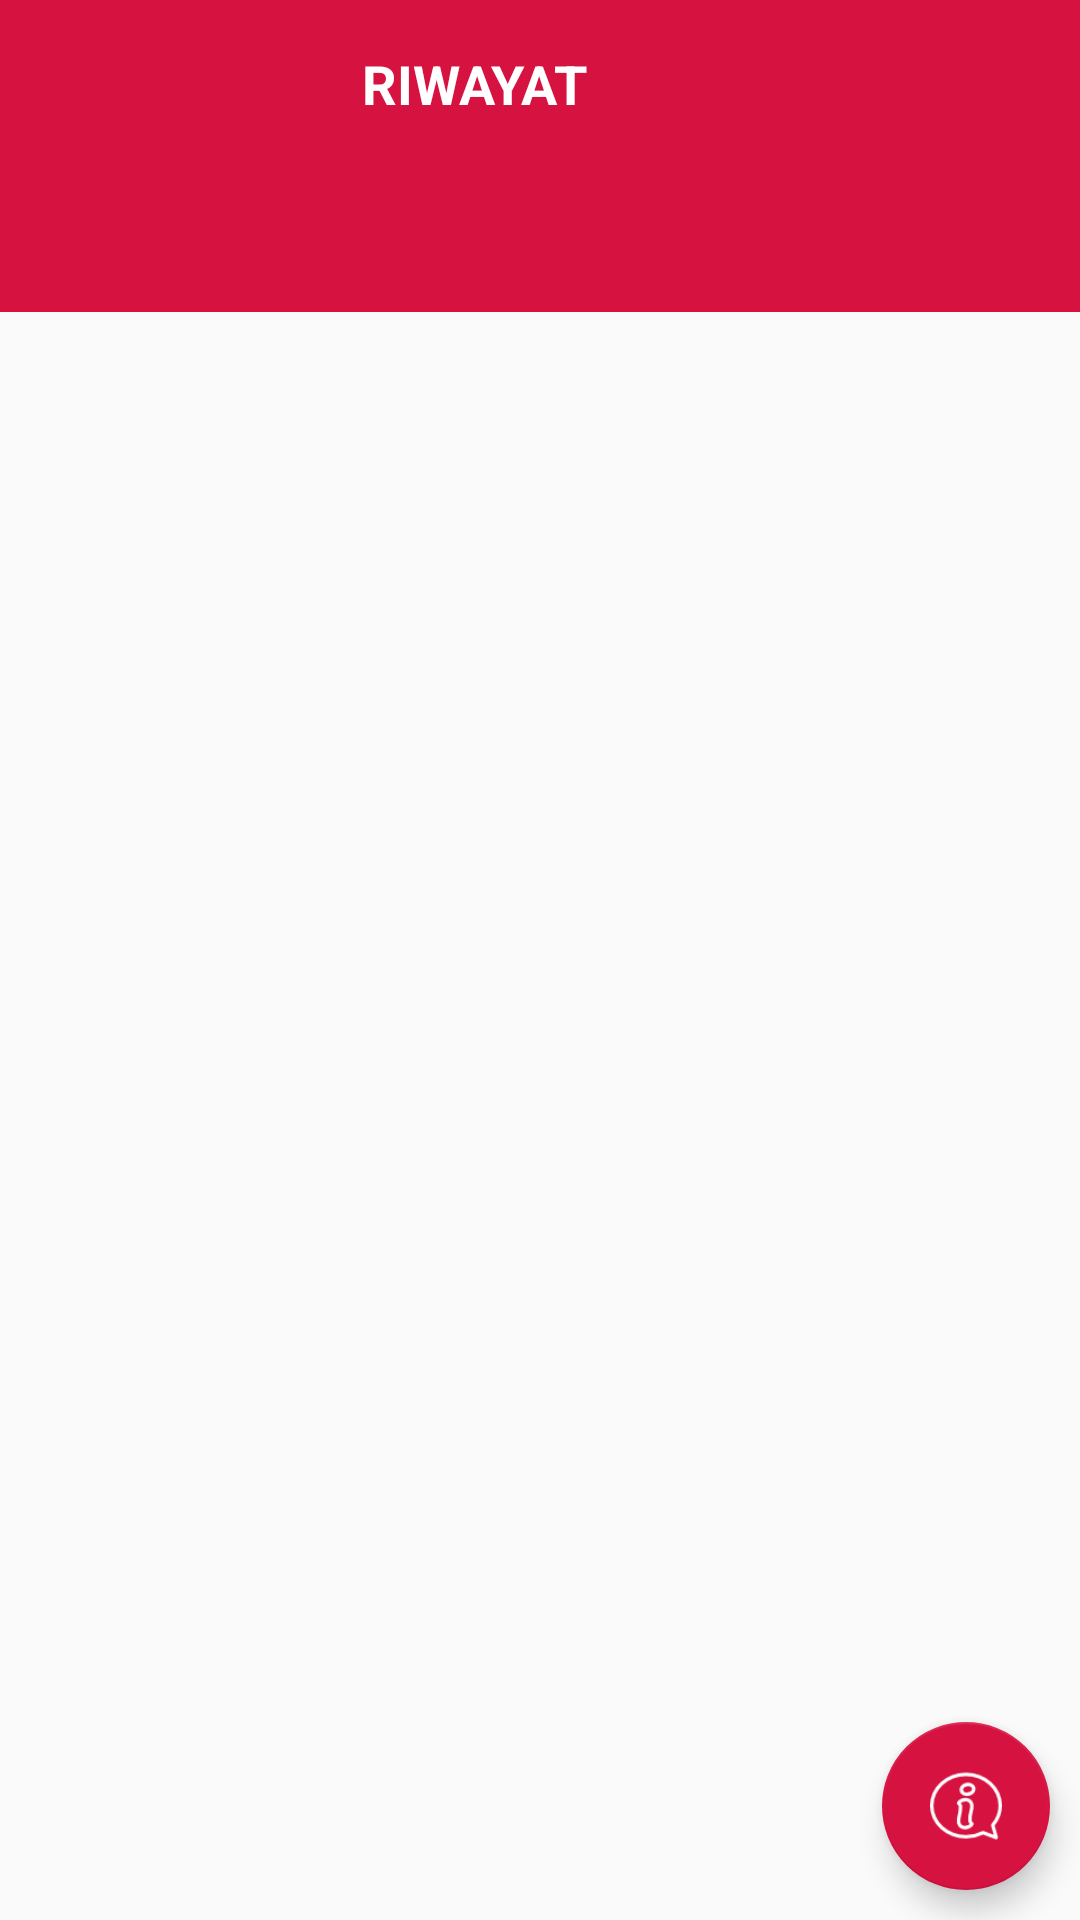

Screen size 1080*1920. Icon name, then its box in pixels as (x1, y1, x2, y2):
information: (882, 1722, 1050, 1890)
